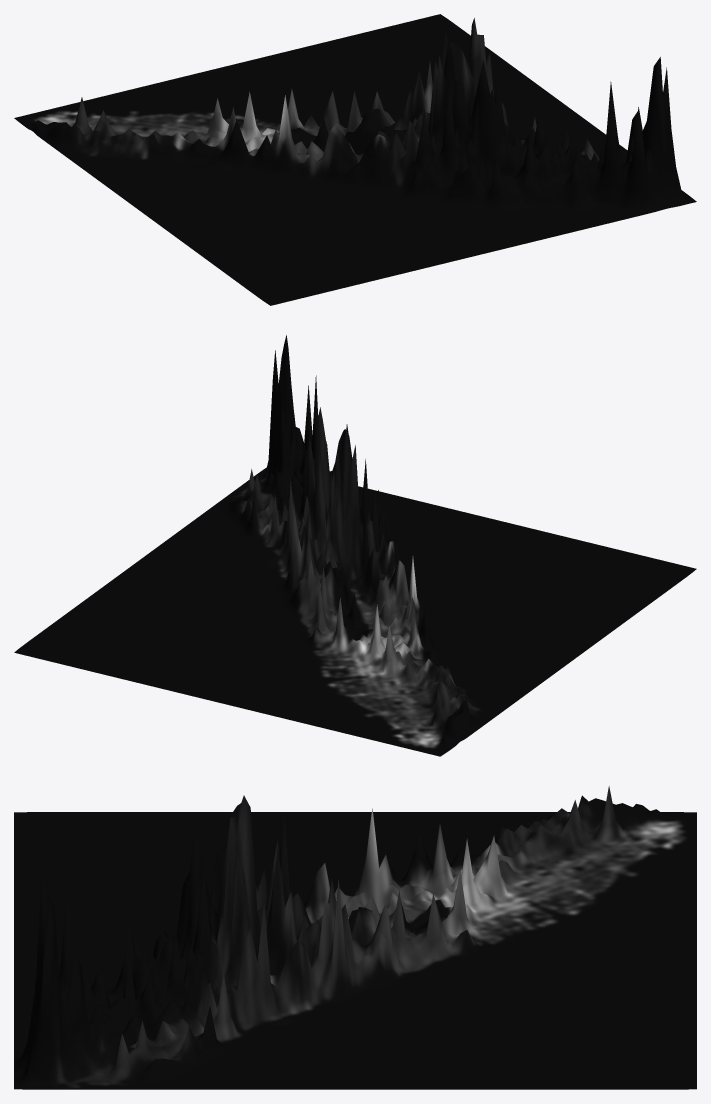
File: Manhattan-2.obj
3 views of the same model, one above another, from view 1: azimuth 30°, elevation 25°; view 2: azimuth 150°, elevation 25°; view 3: azimuth 270°, elevation 25° (orthographic). The views are drawn at different scales.
Parts seen in each view (by area): view 1: manhattan; view 2: manhattan; view 3: manhattan.
Boxes of the visible parts, <box> form: manhattan: <box>14,14,696,305</box>; manhattan: <box>14,335,696,756</box>; manhattan: <box>14,786,696,1089</box>.
Bounding box in the file's own units: 0.9622 × 0.3326 × 1.
